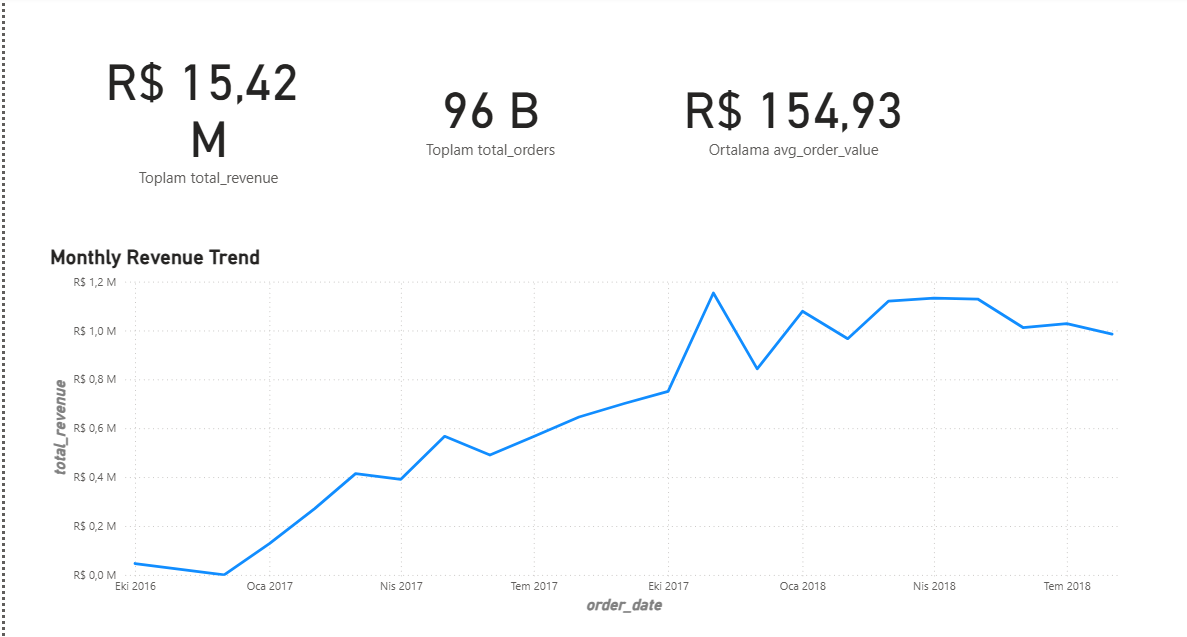

The page's visual inventory and layout, read from the dashboard file:
{"tool":"powerbi","page":{"name":"1. sayfa","canvas":[1280,720],"ordinal":0},"visuals":[{"type":"card","fields":{"Values":["Sum(monthly_sales.total_revenue)"]},"box":[85.8,0,267.2,255.8],"z":0},{"type":"card","fields":{"Values":["Avg(monthly_sales.avg_order_value)"]},"box":[706,0,289.8,255.8],"z":1000},{"type":"card","fields":{"Values":["Sum(monthly_sales.total_orders)"]},"box":[385.4,0,276.9,255.8],"z":2000},{"type":"lineChart","title":"Monthly Revenue Trend","fields":{"Y":["Sum(monthly_sales.total_revenue)"],"Category":["monthly_sales.order_date"]},"box":[43.7,270.4,1182,401.6],"z":3000}]}

Visuals, with their boxes on the page's 1280x720 design canvas (x1, y1, x2, y2). These are canvas units, not pixel positions in the 1187x637 screenshot, which may show the page scaled, cropped or inside an application window:
card - Sum(monthly_sales.total_revenue): detection(86, 0, 353, 256)
card - Avg(monthly_sales.avg_order_value): detection(706, 0, 996, 256)
card - Sum(monthly_sales.total_orders): detection(385, 0, 662, 256)
"Monthly Revenue Trend" lineChart: detection(44, 270, 1226, 672)
